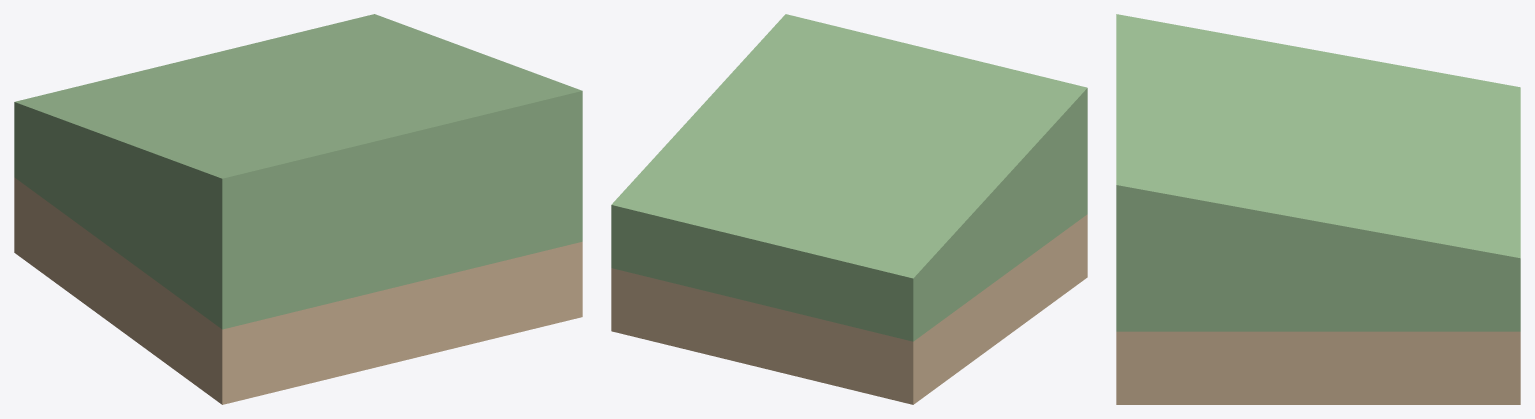
The model's file is tile_106.gltf.
The picture shows the model from 3 angles, left to right: view 1: azimuth 30°, elevation 25°; view 2: azimuth 150°, elevation 25°; view 3: azimuth 270°, elevation 25°; orthographic projection. The views are drawn at different scales.
Visible parts, largest first — view 1: tile_106; view 2: tile_106; view 3: tile_106.
Part boxes in pixels (left/top/right/bottom): tile_106: left=14, top=14, right=582, bottom=404; tile_106: left=611, top=14, right=1087, bottom=404; tile_106: left=1116, top=14, right=1520, bottom=404.
Bounding box in the file's own units: 1 × 0.6 × 1.
